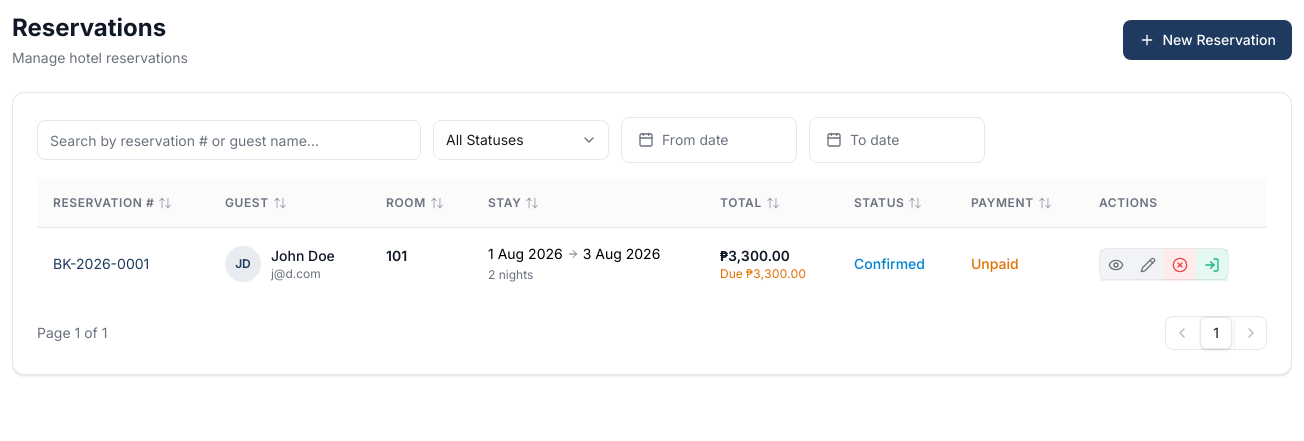
Scenario: ReservationsPage › shows active filter bar with clear all after searching
The width and height of the screenshot is (1304, 441).
Type "juan" into the field with placeholder "Search by reservation # or guest name...". click: (229, 140)
box: [37,120,421,160]
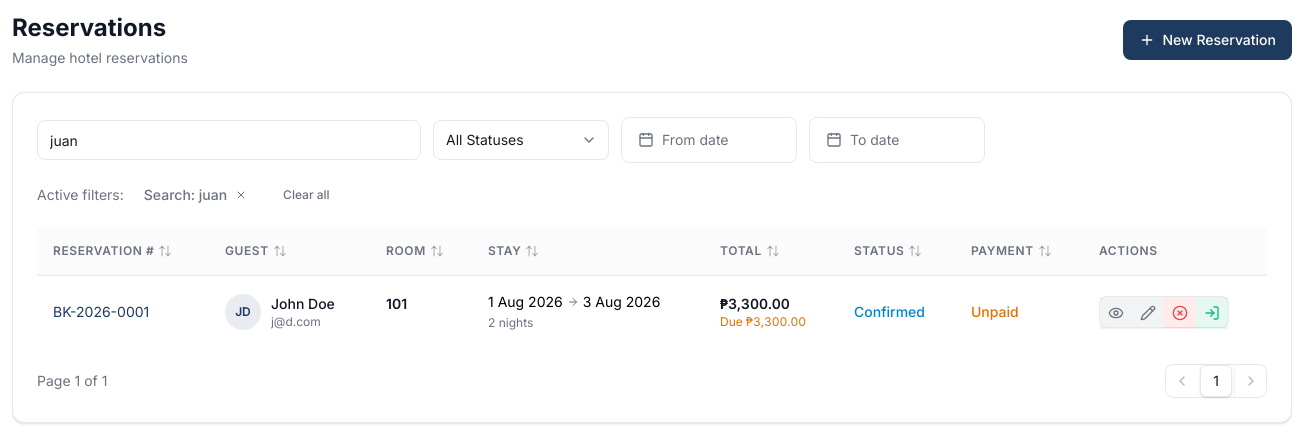
Expected: the text "Active filters:" is shown, [37,185,124,205]
Expected: the button "Clear all" is shown, [271,179,342,211]
